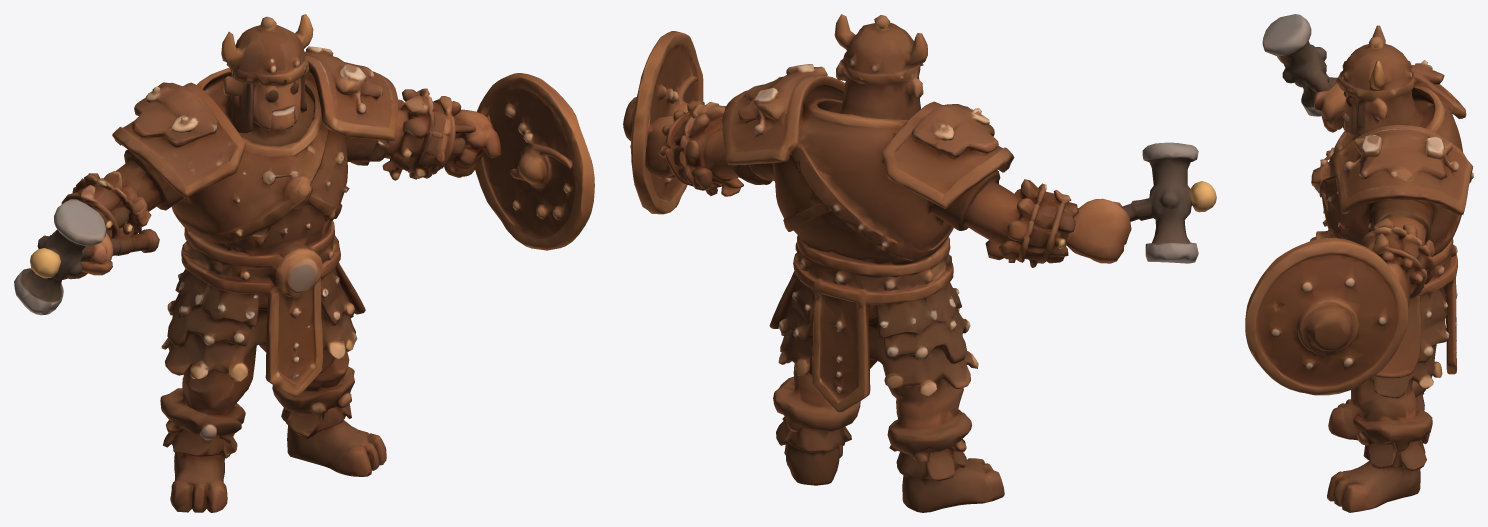
File: boss_karahan.glb
3 views of the same model, side by side, from view 1: azimuth 30°, elevation 25°; view 2: azimuth 150°, elevation 25°; view 3: azimuth 270°, elevation 25° (orthographic). The views are drawn at different scales.
Visible parts, largest first — view 1: tripo_node_b03e4a70-9b6b-40f2-aa6d-a7dd4253461c; view 2: tripo_node_b03e4a70-9b6b-40f2-aa6d-a7dd4253461c; view 3: tripo_node_b03e4a70-9b6b-40f2-aa6d-a7dd4253461c.
Boxes of the visible parts, <box> form: tripo_node_b03e4a70-9b6b-40f2-aa6d-a7dd4253461c: <box>14,14,594,512</box>; tripo_node_b03e4a70-9b6b-40f2-aa6d-a7dd4253461c: <box>623,14,1216,512</box>; tripo_node_b03e4a70-9b6b-40f2-aa6d-a7dd4253461c: <box>1245,14,1473,512</box>.
Size of the model in its own units: 1 by 0.7872 by 0.379.
Materials: 1 (1 with a texture image).
